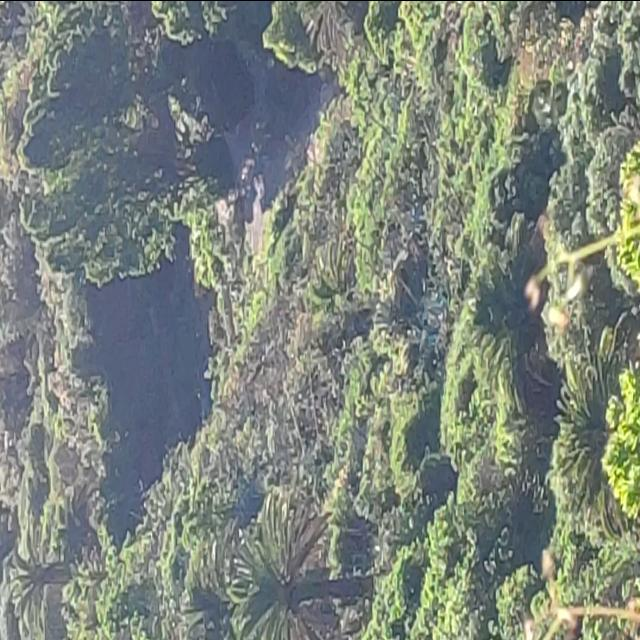Palm-Trees: (235, 500, 372, 638)
